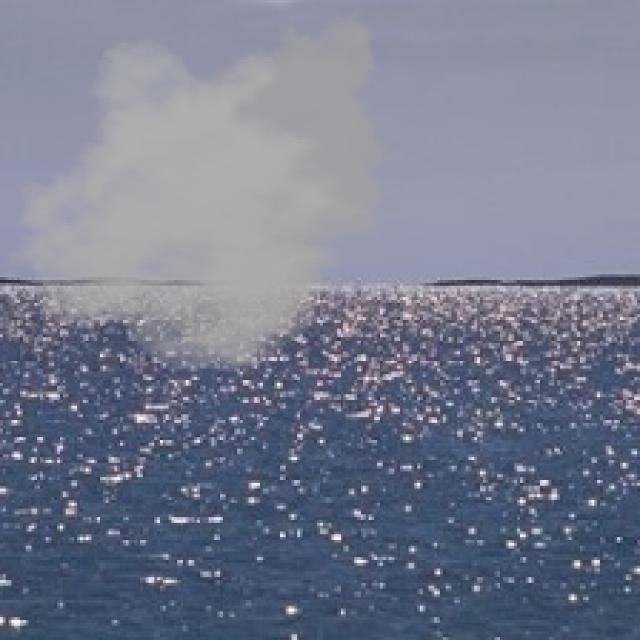smoke: (3, 0, 401, 375)
